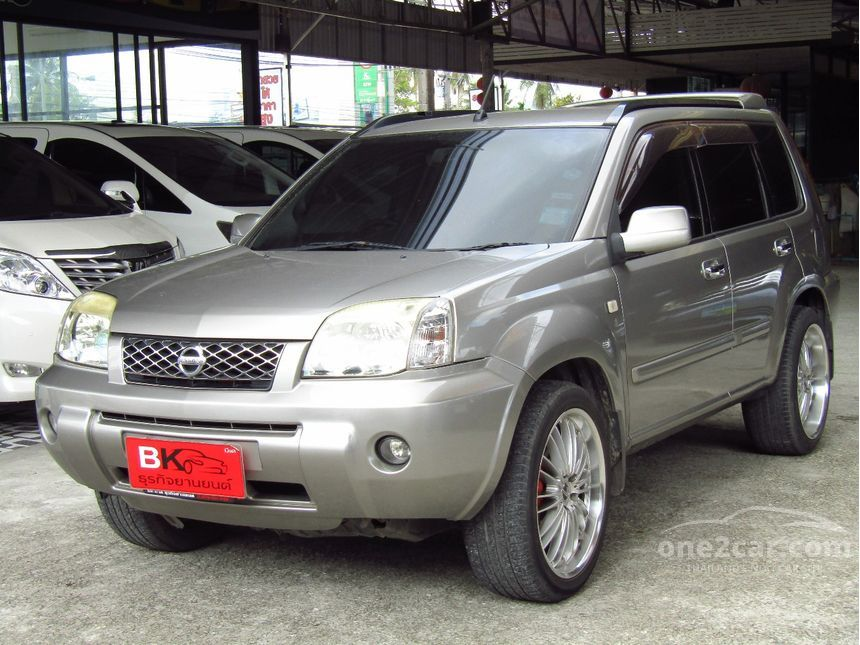pickup: (34, 85, 839, 601)
